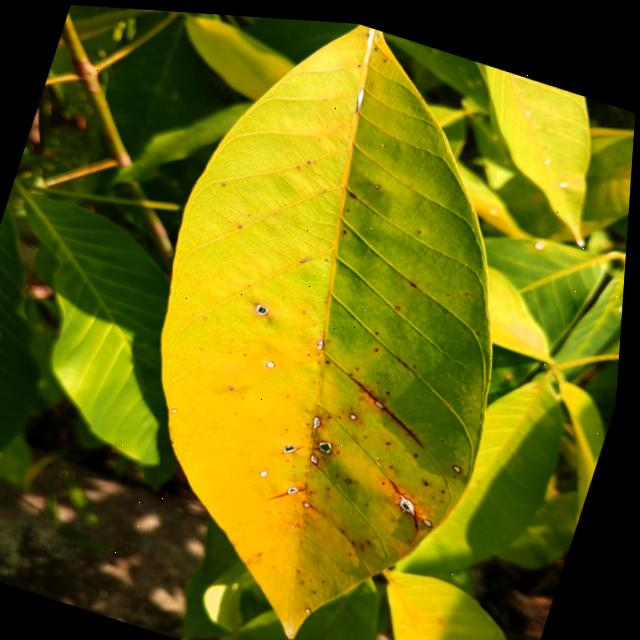Colletotrichum: (257, 299, 274, 313), (427, 510, 442, 522), (270, 355, 280, 366), (320, 334, 329, 346), (456, 458, 468, 466), (265, 464, 274, 474), (354, 407, 363, 416), (312, 602, 319, 608), (351, 187, 359, 192), (177, 405, 182, 411), (376, 178, 382, 183), (297, 519, 302, 524), (399, 299, 404, 304), (352, 473, 358, 477), (326, 451, 331, 455), (308, 156, 313, 160), (345, 225, 349, 229), (391, 385, 394, 388), (303, 518, 306, 521), (379, 343, 382, 346), (420, 447, 423, 450), (392, 436, 395, 439), (311, 349, 314, 351), (331, 356, 333, 358), (388, 476, 390, 478), (333, 411, 335, 413), (380, 326, 382, 328), (316, 486, 318, 488)
Corynespora: (346, 374, 444, 444), (382, 472, 437, 528), (274, 474, 311, 505)
